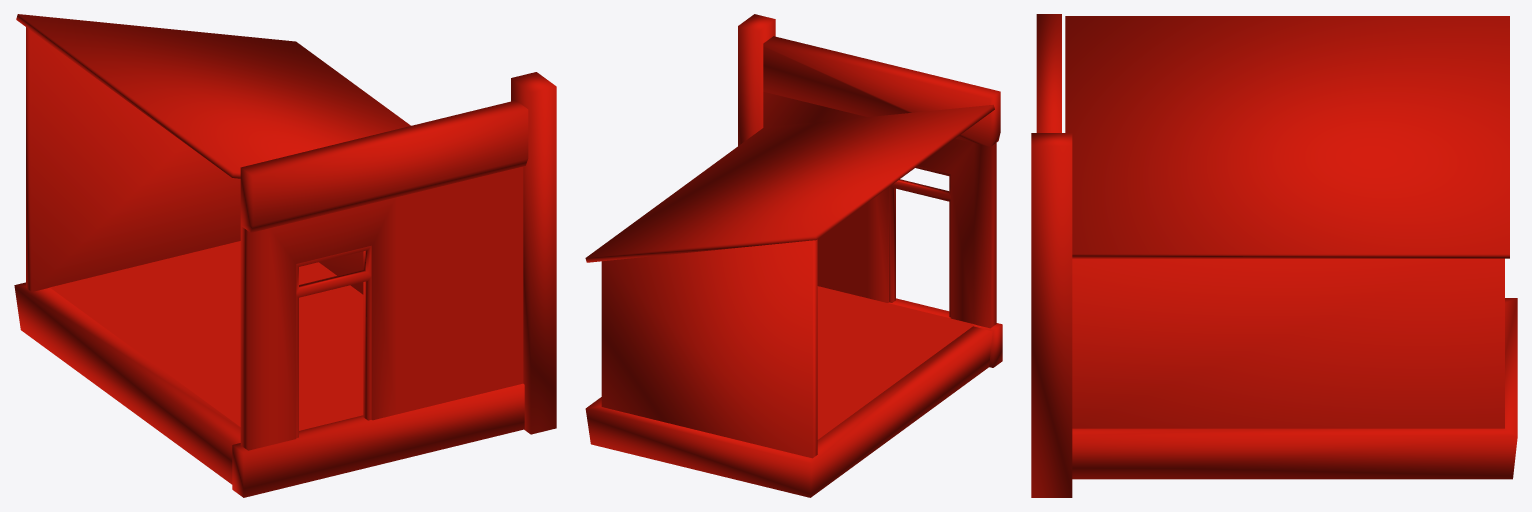
File: IndBuilding1_Ext_A_COL.fbx
The picture shows the model from 3 angles, left to right: view 1: azimuth 30°, elevation 25°; view 2: azimuth 150°, elevation 25°; view 3: azimuth 270°, elevation 25°; orthographic projection. The views are drawn at different scales.
Parts seen in each view (by area): view 1: IndBuilding1_Ext_A_COL; view 2: IndBuilding1_Ext_A_COL; view 3: IndBuilding1_Ext_A_COL.
Part boxes in pixels (x1,y1,x2,y2): IndBuilding1_Ext_A_COL: (14, 14, 556, 497); IndBuilding1_Ext_A_COL: (585, 14, 1002, 497); IndBuilding1_Ext_A_COL: (1031, 14, 1517, 497).
Size of the model in its own units: 7.19 by 7.63 by 9.56.
